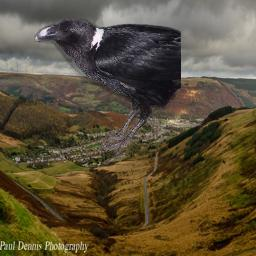Crow: (34, 17, 181, 161)
